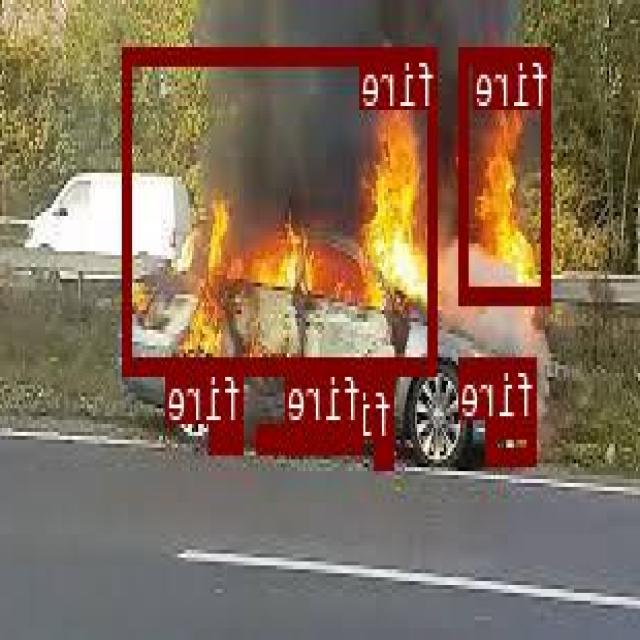fire: (126, 46, 440, 372), (461, 46, 553, 302), (259, 422, 364, 450), (488, 418, 538, 461), (212, 420, 244, 450), (376, 437, 396, 466)
